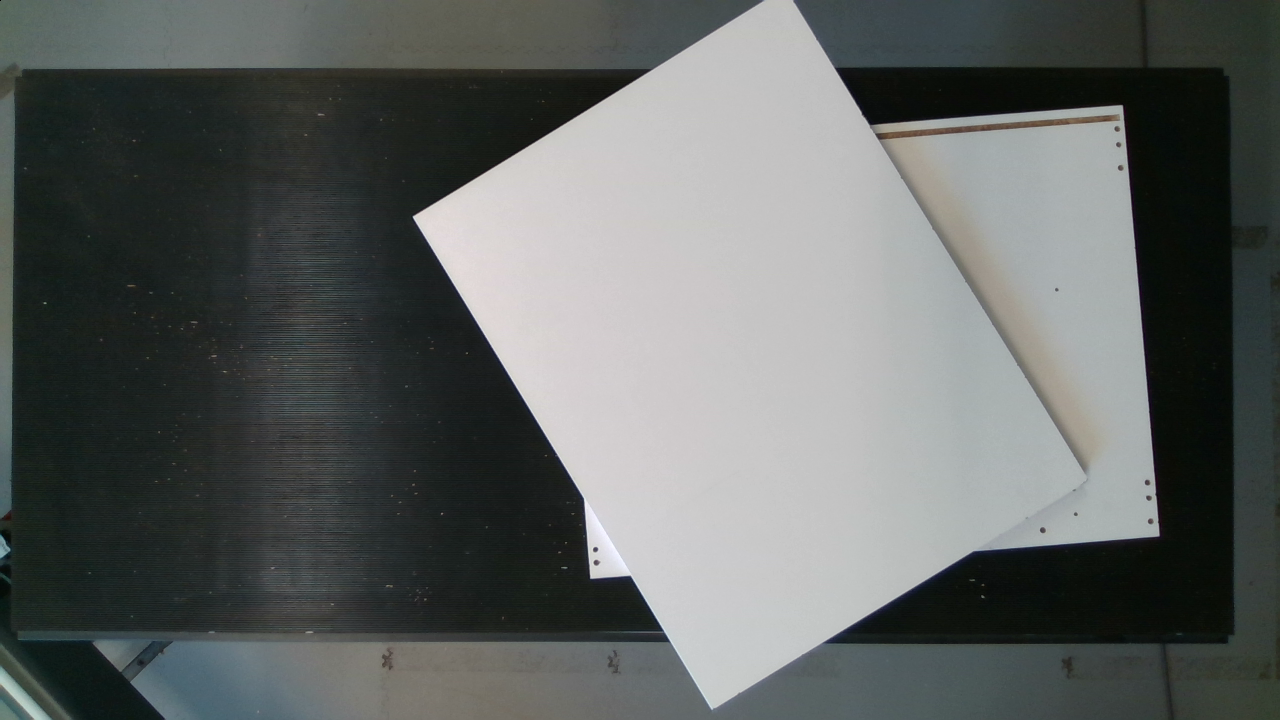part2: (408, 5, 1107, 714)
